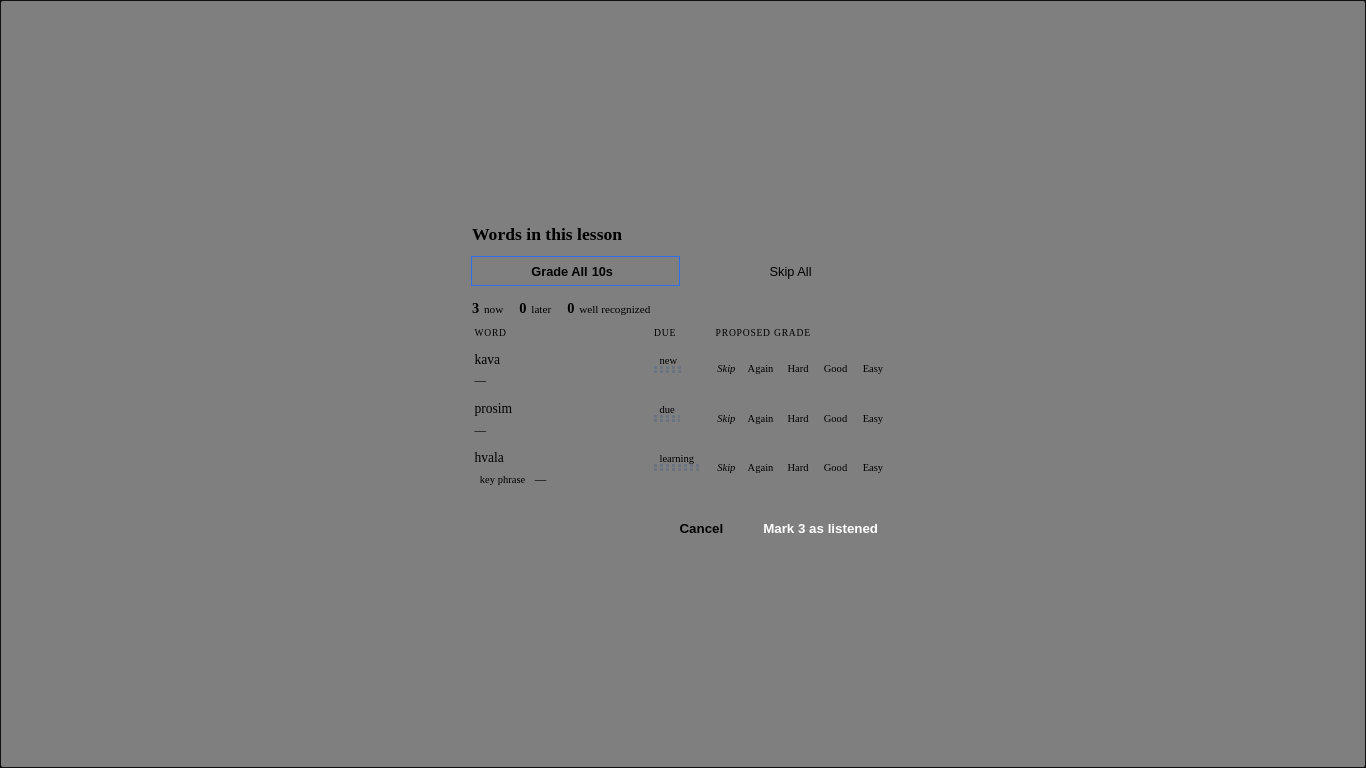
Scenario: ListenPreviewModal › Grade All returns every skipped row to a real grade
This screenshot has width=1366, height=768.
Expected: the button "Mark 3 as listened" is shown, [747,513,894,544]
# Skip one, then Grade All
Click the button "Skip" in the row of "kava" at x=726, y=369, box [716,350,737,388]
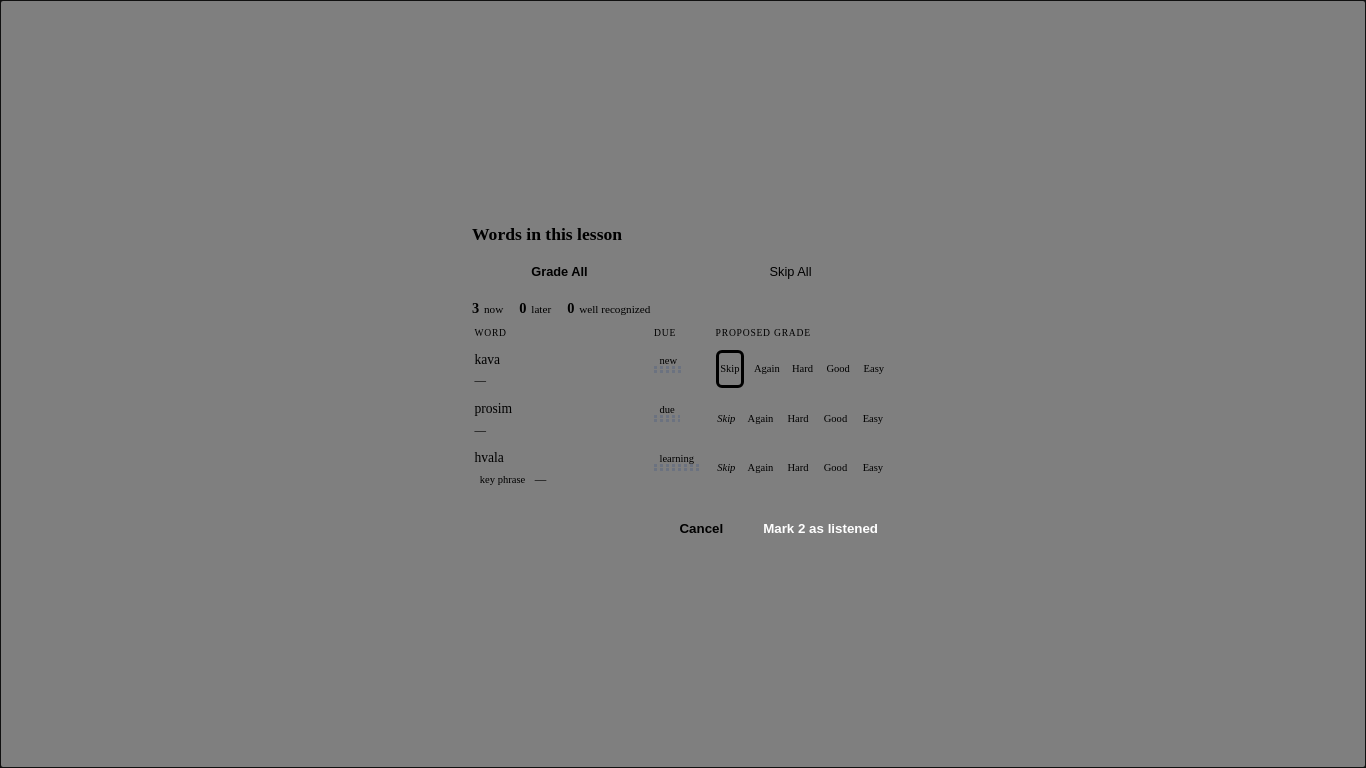
Click the button "Grade All" at x=576, y=271, box [472,257,679,285]
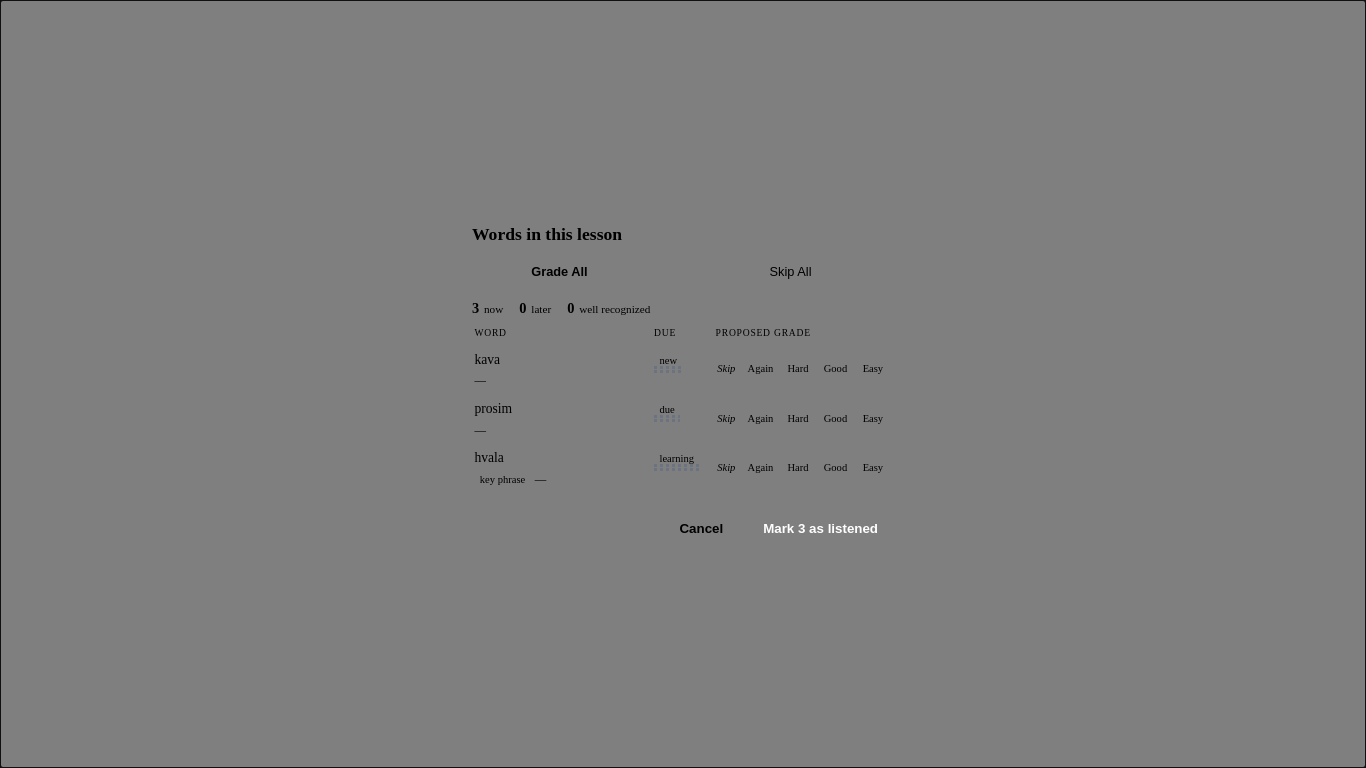
Result: the button "Mark 3 as listened" is shown at [747,513,894,544]
